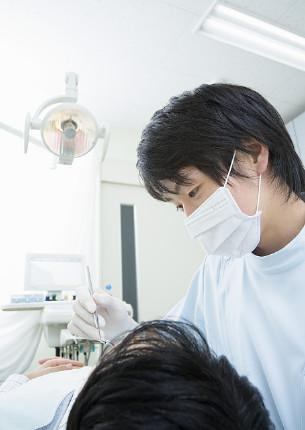OK: (173, 171, 263, 261)
